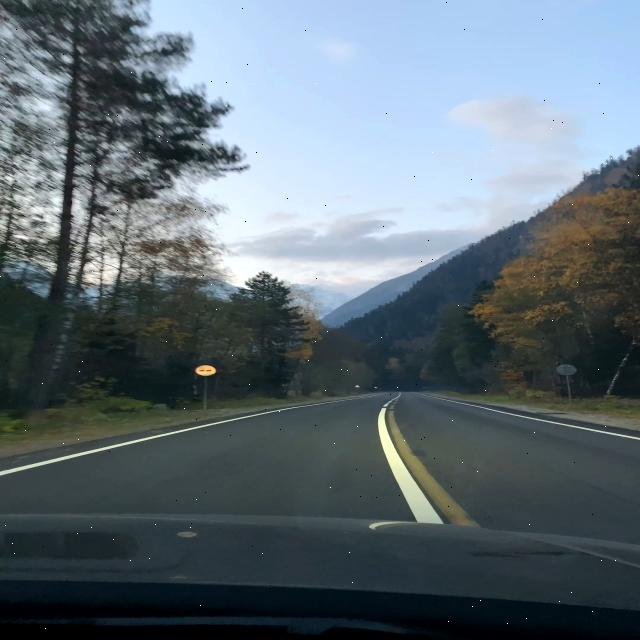lane: (0, 395, 371, 476), (378, 398, 478, 526)
road: (2, 393, 638, 638)
